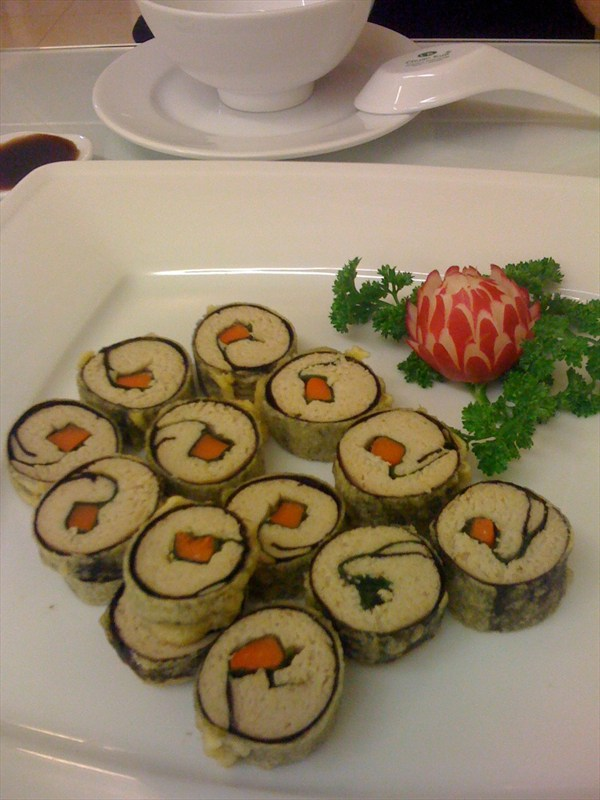Tahu Goreng: (58, 239, 546, 688)
